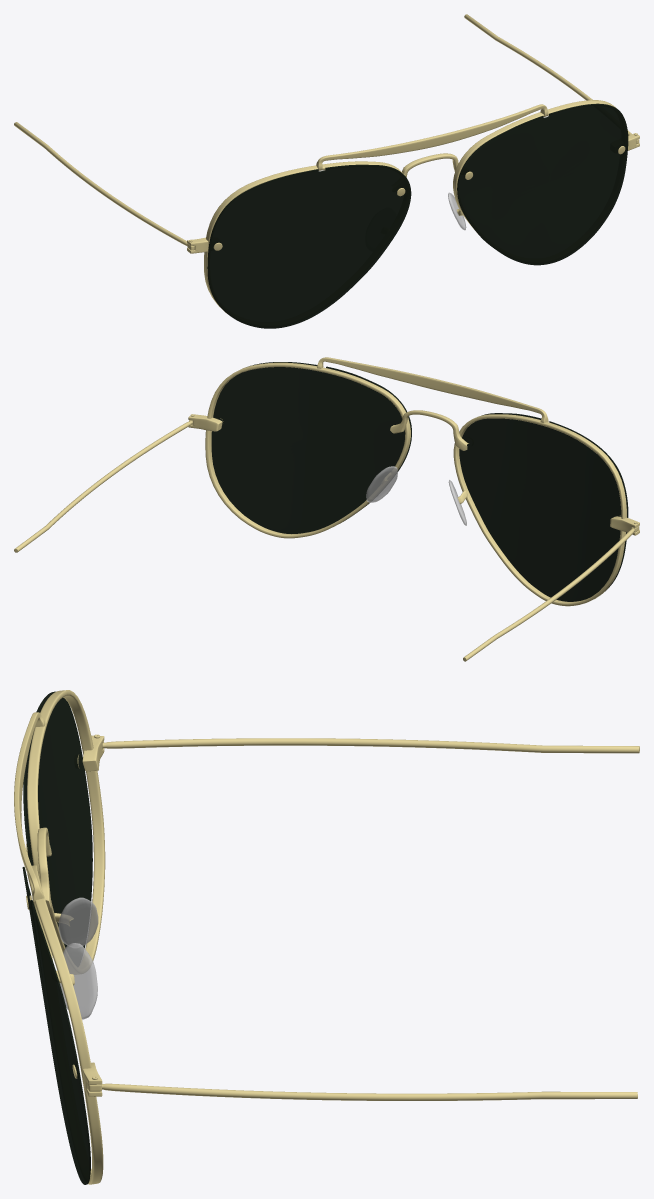
The model's file is blaze_APP_11072020.glb.
3 renders of one model, top to bottom at view 1: azimuth 30°, elevation 25°; view 2: azimuth 150°, elevation 25°; view 3: azimuth 270°, elevation 25°, orthographic. The views are drawn at different scales.
Parts seen in each view (by area): view 1: lentes, armacao; view 2: lentes, armacao, ponte; view 3: armacao, lentes, ponte.
Part boxes in pixels (x1,y1,x2,y2): lentes: [207, 103, 628, 328]; armacao: [14, 14, 639, 313]; lentes: [211, 362, 628, 601]; armacao: [14, 357, 639, 661]; ponte: [366, 466, 466, 525]; armacao: [14, 690, 639, 1184]; lentes: [22, 691, 92, 1184]; ponte: [58, 897, 98, 1019].
Size of the model in its own units: 0.1576 by 0.0568 by 0.1173.
